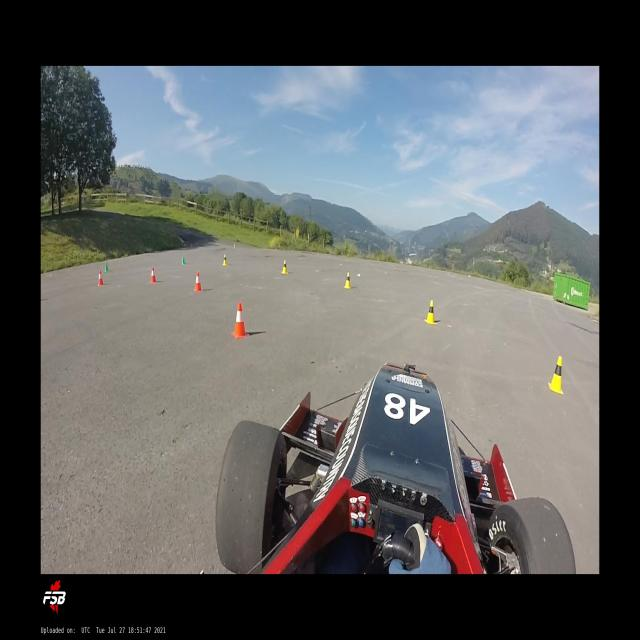orange_cone: (232, 302, 249, 338), (195, 272, 202, 292), (150, 266, 157, 284), (98, 270, 103, 285)
unknown_cone: (105, 261, 108, 272), (182, 256, 185, 264)
yellow_cone: (548, 356, 564, 394), (424, 300, 436, 324), (344, 271, 350, 289), (282, 260, 288, 274), (222, 254, 228, 266)
